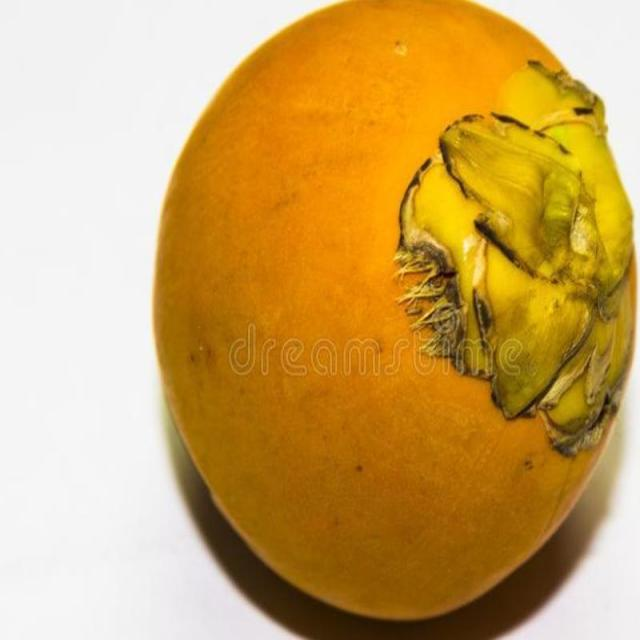good: (150, 0, 639, 626)
